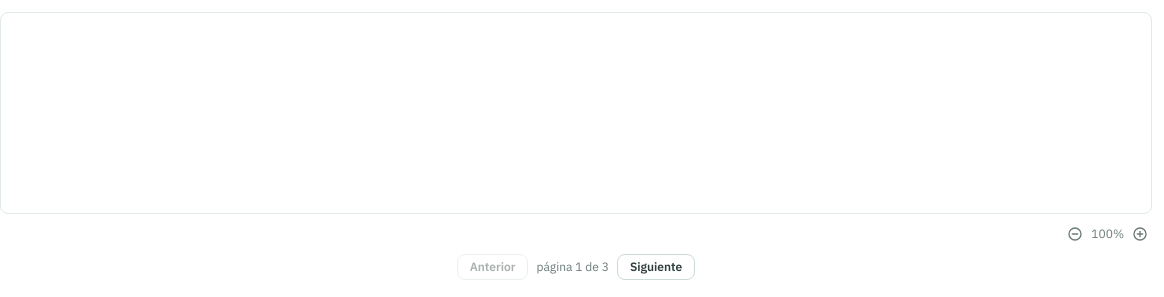
Test: PdfPreview — PDF multipágina: navegación Anterior/Siguiente (comportamiento observable) › con 3 páginas muestra los controles, el indicador "página 1 de 3", y navega con Siguiente/Anterior
This screenshot has width=1164, height=297.
Check: the text "página 1 de 3" is shown, box [536,259,609,275]
Check: the button "Anterior" is disabled, box [457,254,528,280]
Click the button "Siguiente".
click(656, 267)  # box [617,254,695,280]
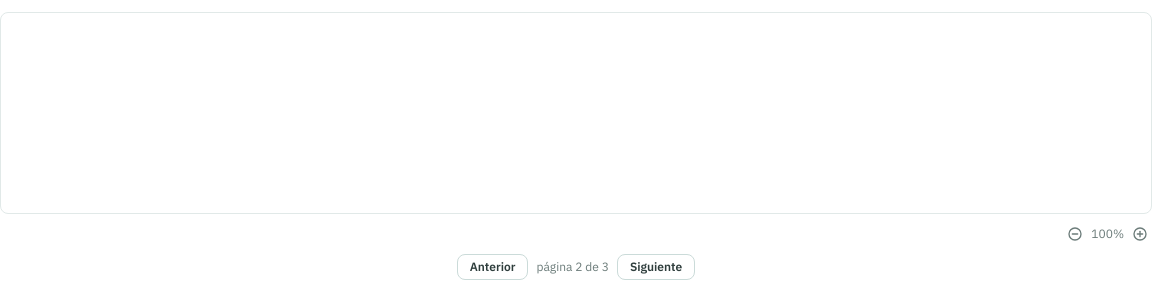
Check: the text "página 2 de 3" is shown, box [536,259,609,275]
Check: the button "Anterior" is enabled
Click the button "Anterior".
click(493, 267)  # box [457,254,528,280]
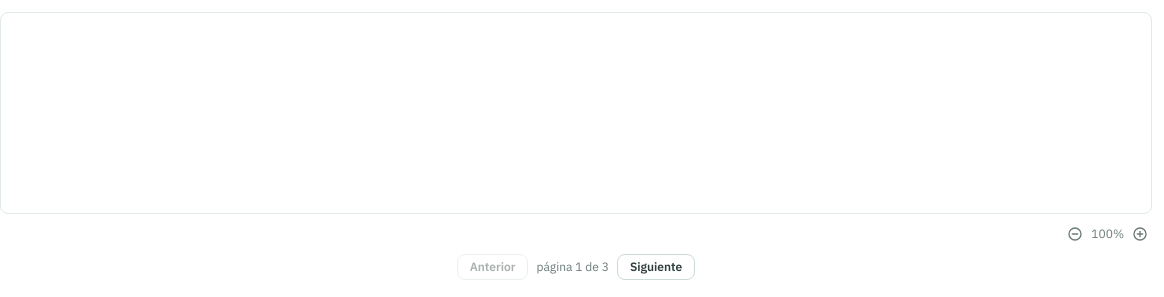
Check: the text "página 1 de 3" is shown, box [536,259,609,275]
Check: the button "Anterior" is disabled, box [457,254,528,280]
